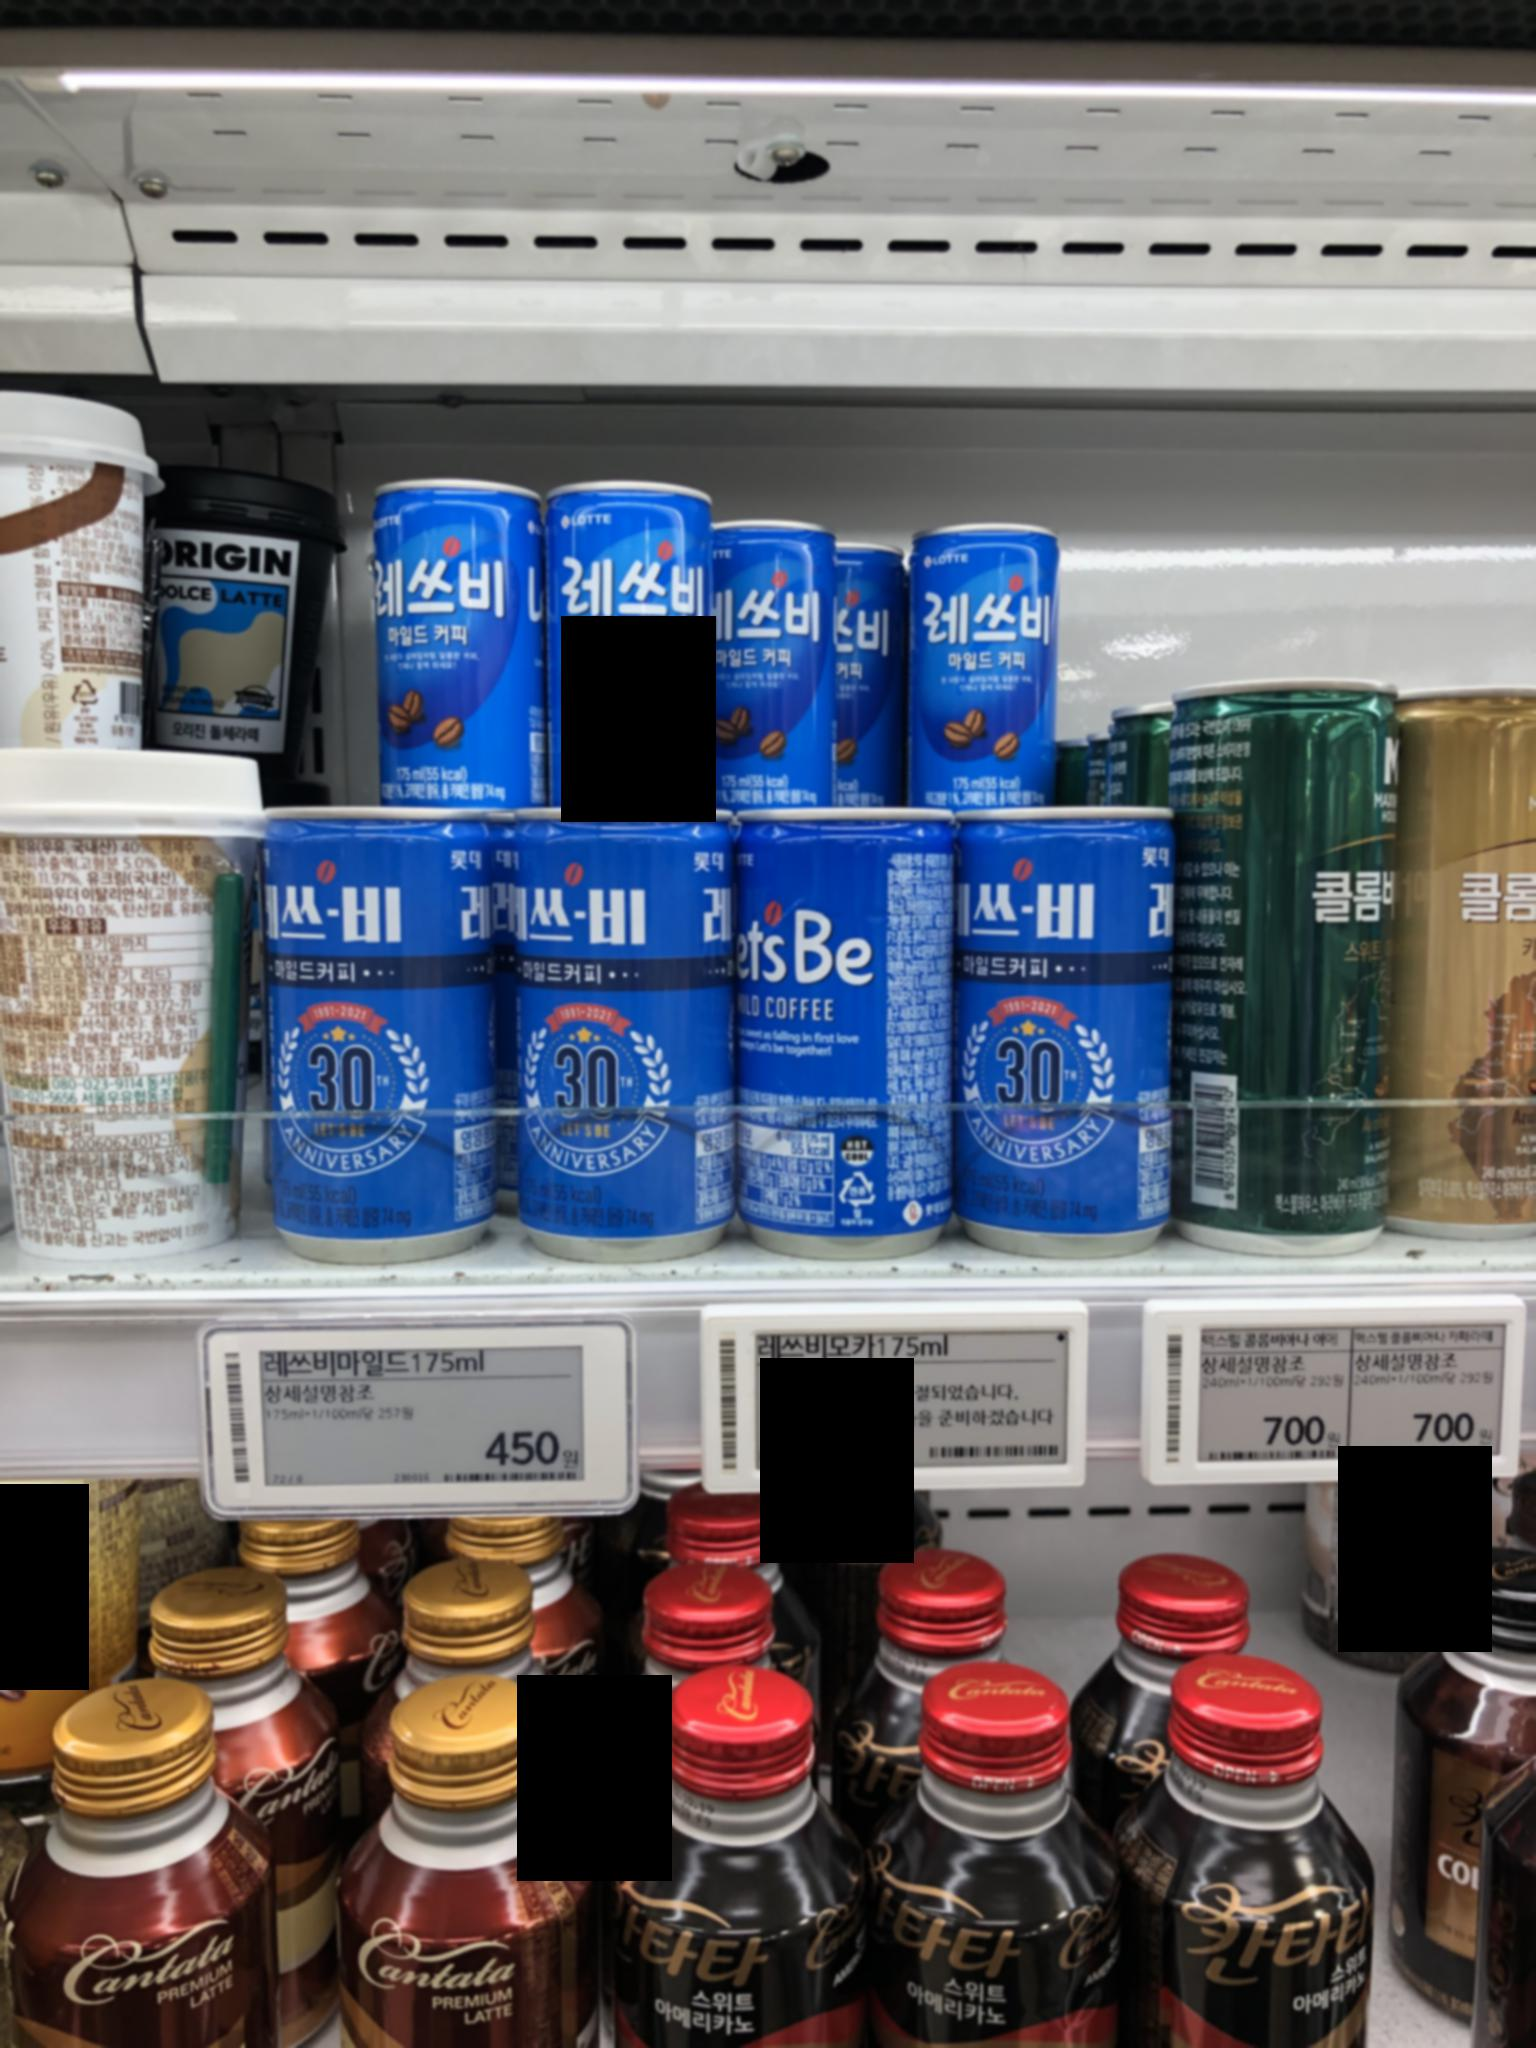letsbe: (245, 797, 471, 1256), (479, 803, 707, 1258), (718, 806, 931, 1243), (942, 813, 1155, 1237), (342, 463, 537, 801), (886, 508, 1084, 808), (550, 492, 697, 793)
